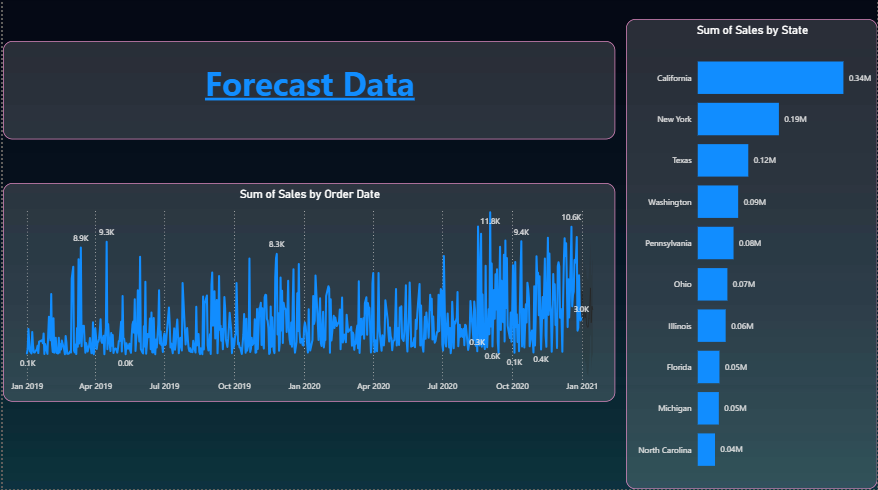

What the dashboard file says about the page in this screenshot:
{"tool":"powerbi","page":{"name":"Page 2","canvas":[1280,720],"ordinal":1},"visuals":[{"type":"lineChart","fields":{"Y":["Sum(SuperStore_Sales_Dataset.Sales)"],"Category":["SuperStore_Sales_Dataset.Order Date"]},"box":[0,272,896,320],"z":0},{"type":"clusteredBarChart","fields":{"Y":["Sum(SuperStore_Sales_Dataset.Sales)"],"Category":["SuperStore_Sales_Dataset.State"]},"box":[912,32,368,688],"z":1000},{"type":"textbox","box":[0,64,896,144],"z":2000}]}

Visuals, with their boxes in screenshot pixels (x1, y1, x2, y2), scaled from the page's 1280x720 canvas onto the 878x490 screenshot:
lineChart - Sum(SuperStore_Sales_Dataset.Sales) x SuperStore_Sales_Dataset.Order Date: (0,185,615,403)
clusteredBarChart - Sum(SuperStore_Sales_Dataset.Sales) x SuperStore_Sales_Dataset.State: (626,22,877,489)
textbox: (0,44,615,142)
